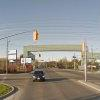Car: (29, 67, 46, 83)
